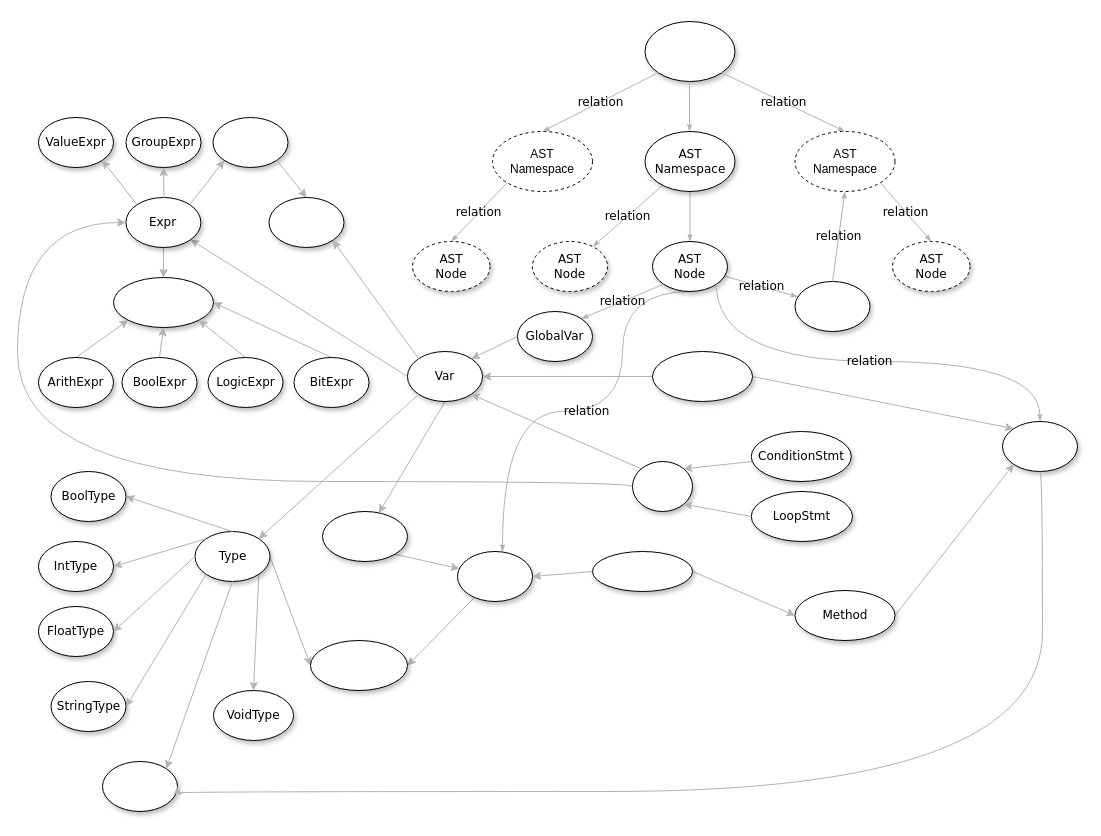
Some shapes in this 1101 by 836 pixel diagram are drawn without their labels. Here are the shapes that lost their labels. From the top down, the centre of each, then its label:
At [690,52]: "AST Context".
At [251,143]: "RefExpr".
At [307,223]: "Refer".
At [164,303]: "OperatorExpr".
At [833,307]: "Import".
At [703,377]: "Attribute".
At [1041,447]: "Class".
At [663,487]: "Stmt".
At [366,537]: "Parameters".
At [495,577]: "Function".
At [643,572]: "Body".
At [360,667]: "FunctionType".
At [141,787]: "ClassType".
